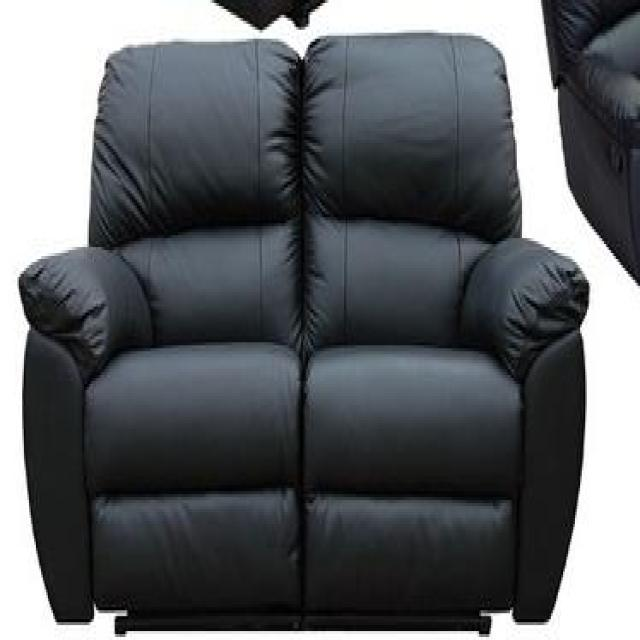sofa: (17, 26, 591, 627)
